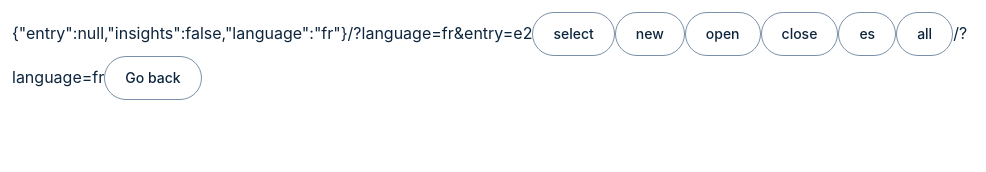
Scenario: useWorkspaceParams › goes Back rather than replacing: one more Back leaves for the page before the workspace
The image size is (986, 172).
What coordinates should you click on to do the following:
click the button "open"
I would click on:
 (723, 34)
Its box is [685, 12, 761, 56].
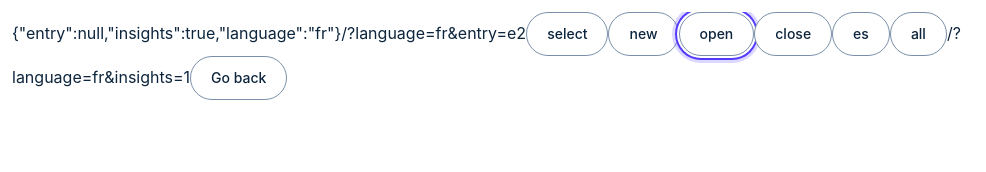
What coordinates should you click on to do the following:
click the button "close"
I would click on:
 (793, 34)
Its box is [754, 12, 832, 56].
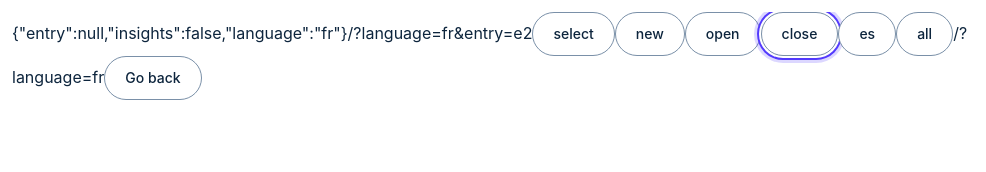
Expected: the text named "Location" reads "/?language=fr", [12, 23, 967, 87]
What coordinates should you click on to do the following:
click the button "Go back"
I would click on:
 (153, 78)
Its box is [104, 56, 202, 100].
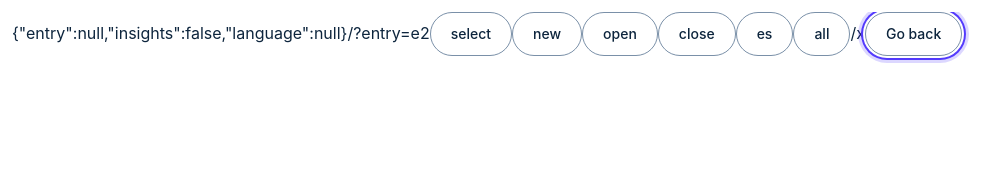
Expected: the text named "Location" reads "/x", [850, 23, 865, 43]
